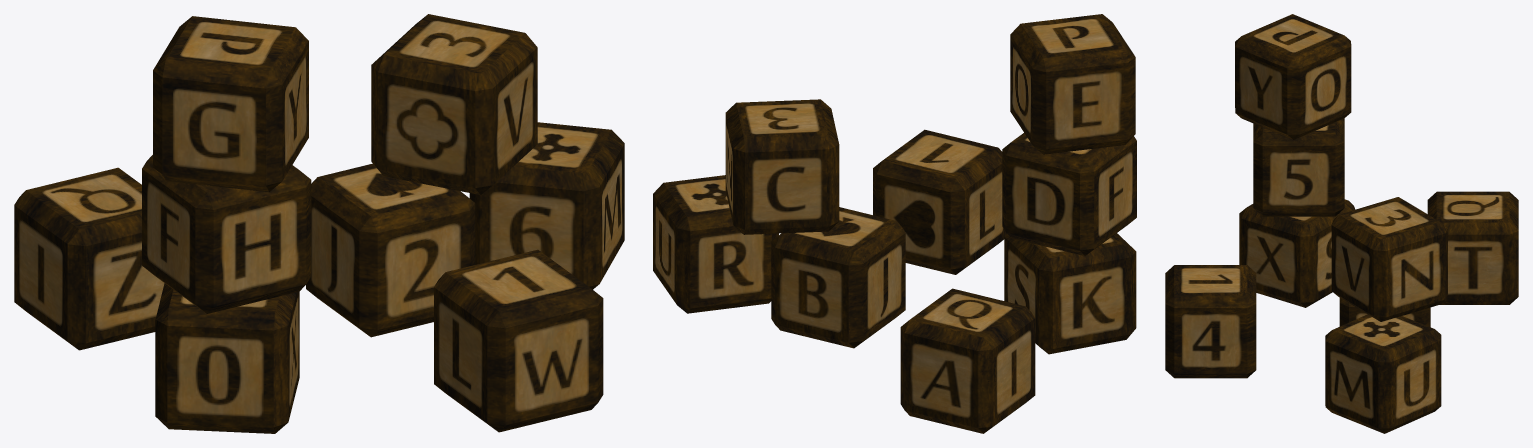
The model's file is Letters Cubes.fbx.
The picture shows the model from 3 angles, left to right: view 1: azimuth 30°, elevation 25°; view 2: azimuth 150°, elevation 25°; view 3: azimuth 270°, elevation 25°; orthographic projection. The views are drawn at different scales.
Parts seen in each view (by area): view 1: Letters_Cubes; view 2: Letters_Cubes; view 3: Letters_Cubes.
Part boxes in pixels (x1=…): Letters_Cubes: x1=14, y1=14, x2=624, y2=433; Letters_Cubes: x1=653, y1=14, x2=1136, y2=433; Letters_Cubes: x1=1165, y1=14, x2=1518, y2=433.
Bounding box in the file's own units: 37.83 × 25.4 × 32.03.
1 material, 1 textured.
